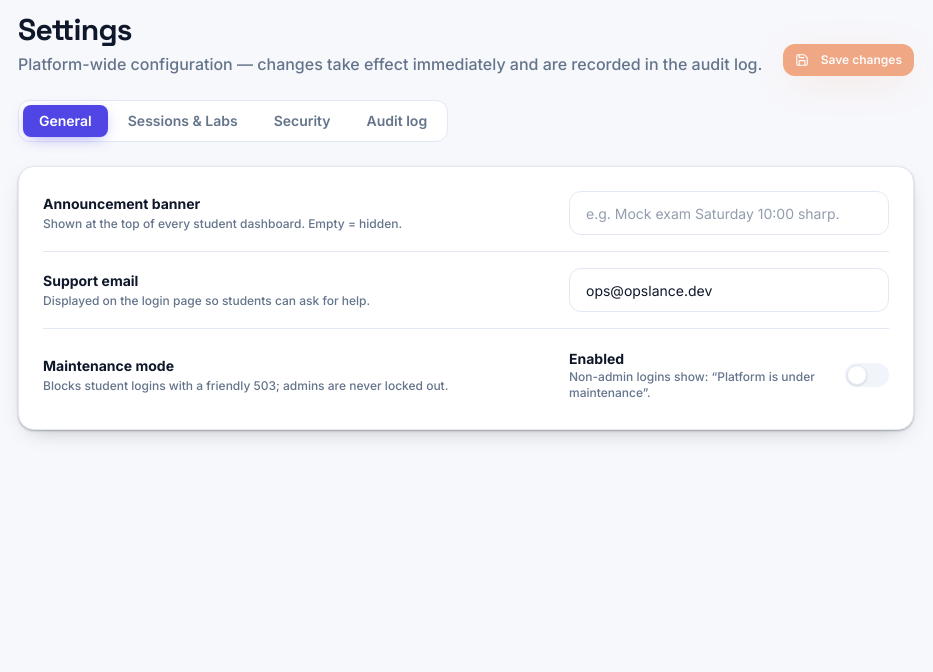
Test case: AdminSettings › renders the settings sections with loaded values
Expected: the field named "Announcement banner text" is shown, [569, 191, 889, 235]
Expected: the field named "Support email" holds "ops@opslance.dev", [569, 268, 889, 312]
# Sessions tab shows the tier caps
Click the tab "Sessions & Labs".
click(183, 121)  # box [112, 105, 254, 137]
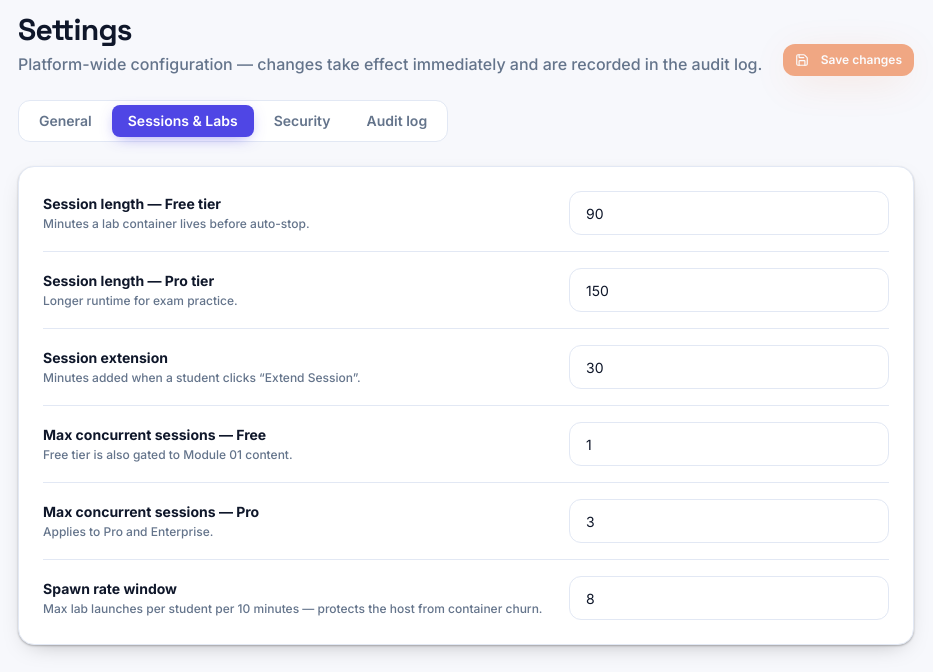
Expected: the number field named "Free concurrent sessions" holds "1", [569, 422, 889, 466]
Expected: the number field named "Pro concurrent sessions" holds "3", [569, 499, 889, 543]
